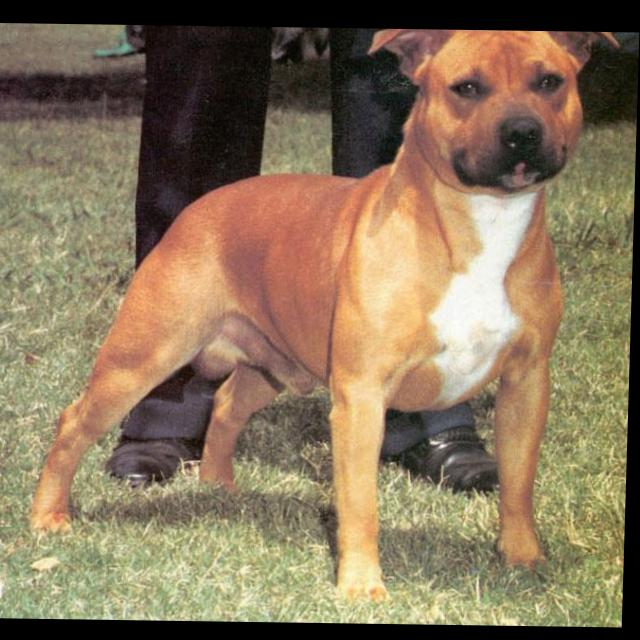staffford: (32, 24, 623, 606)
